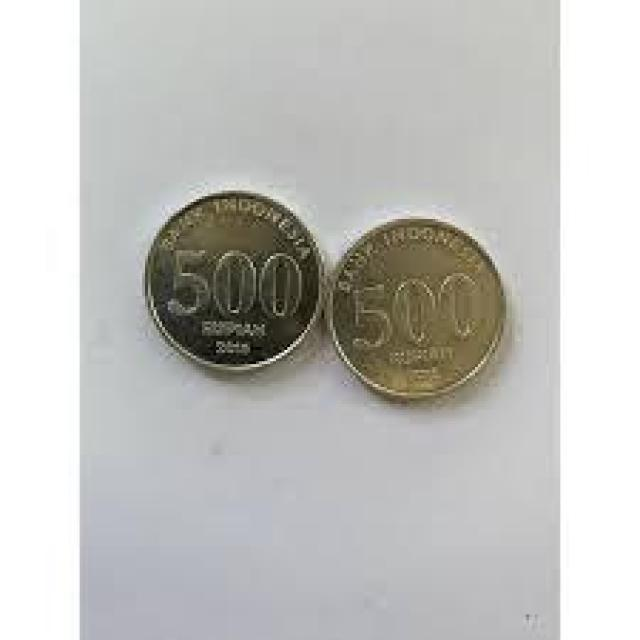500-silver: (318, 208, 520, 422), (136, 184, 322, 389)
